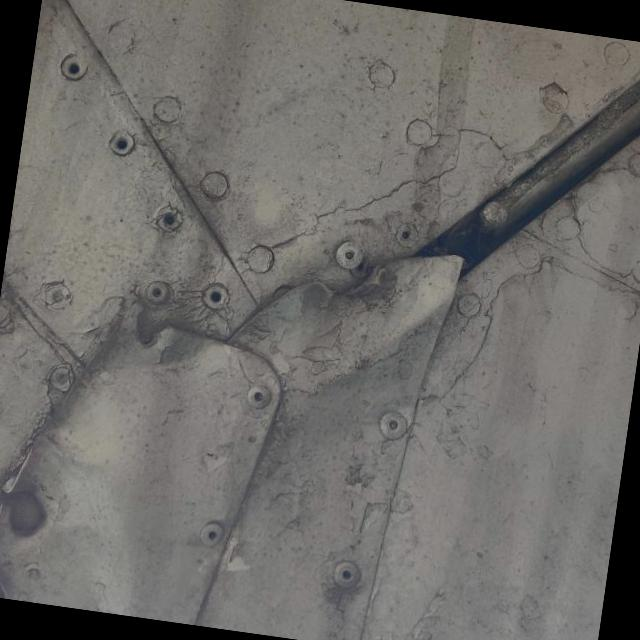crack: (311, 249, 395, 317)
